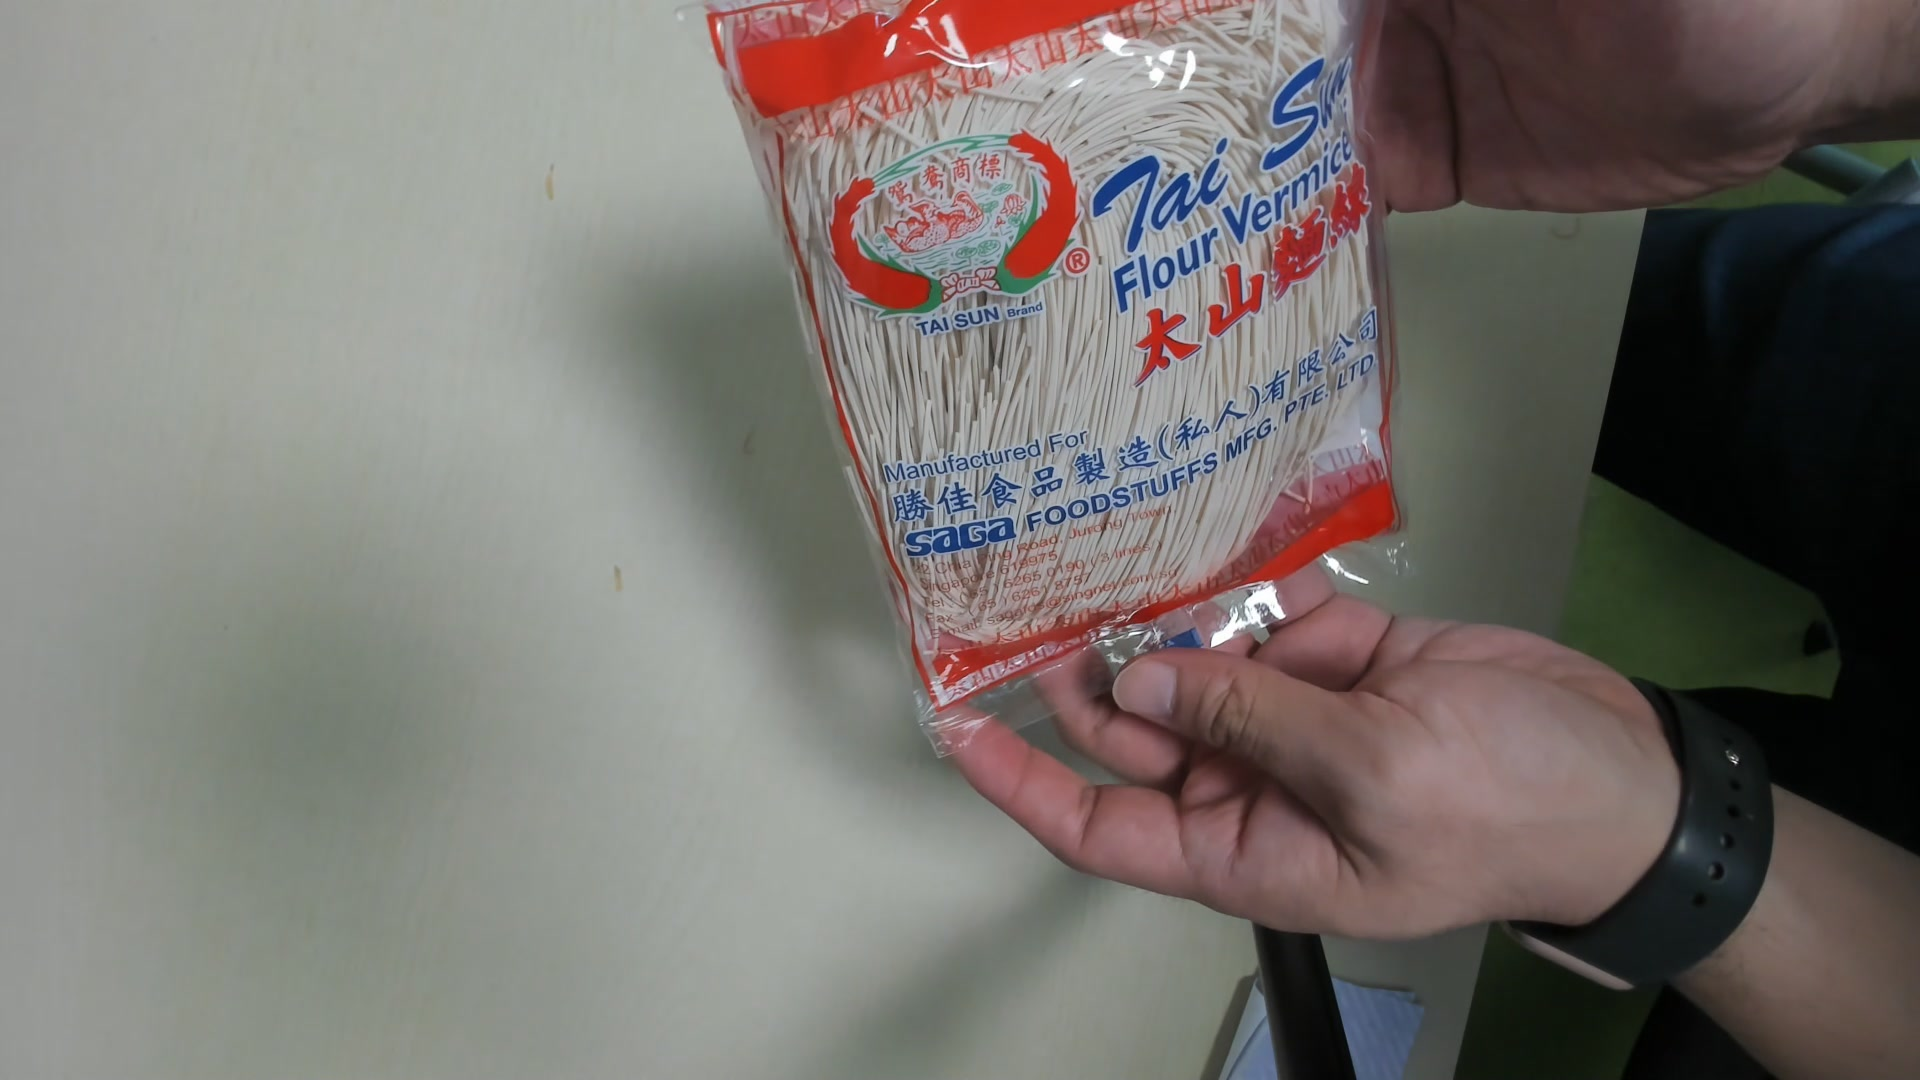BeeHoonVermicelli_100-199g_Halal_NonHealthy: (699, 7, 1415, 720)
